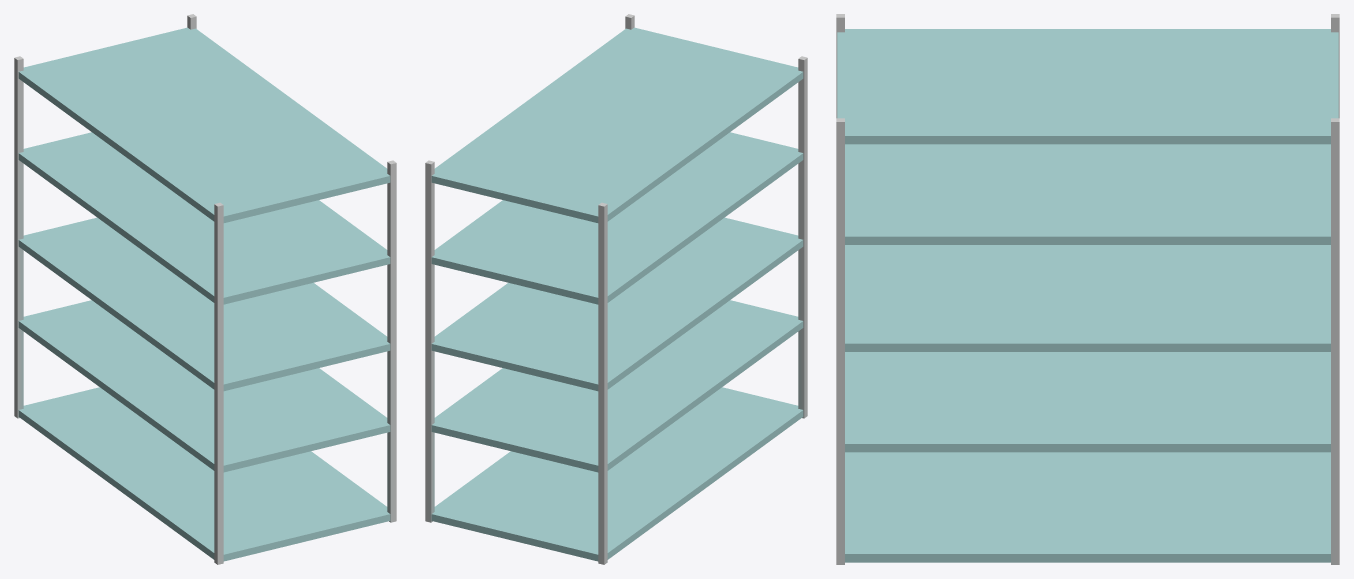
File: simready-storage_shelf_basic_a01.glb
3 views of the same model, side by side, from view 1: azimuth 30°, elevation 25°; view 2: azimuth 150°, elevation 25°; view 3: azimuth 270°, elevation 25° (orthographic). The views are drawn at different scales.
Parts seen in each view (by area): view 1: top_shelf, bottom_shelf, middle_shelf, upper_shelf, lower_shelf, end_post.001, end_post, far_post.001; view 2: top_shelf, bottom_shelf, middle_shelf, upper_shelf, lower_shelf, far_post.001, far_post, end_post.001; view 3: top_shelf, bottom_shelf, middle_shelf, lower_shelf, upper_shelf, end_post, far_post.
Part boxes in pixels (x1,y1,x2,y2): top_shelf: [18, 27, 390, 222]; bottom_shelf: [18, 387, 390, 561]; middle_shelf: [18, 217, 390, 391]; upper_shelf: [18, 132, 390, 304]; lower_shelf: [18, 300, 390, 472]; end_post.001: [214, 202, 223, 564]; end_post: [387, 160, 396, 522]; far_post.001: [14, 56, 23, 418]; top_shelf: [431, 27, 803, 222]; bottom_shelf: [431, 387, 803, 561]; middle_shelf: [431, 217, 803, 391]; upper_shelf: [431, 132, 803, 304]; lower_shelf: [431, 300, 803, 472]; far_post.001: [598, 202, 607, 564]; far_post: [425, 160, 434, 522]; end_post.001: [798, 56, 807, 418]; top_shelf: [837, 29, 1338, 144]; bottom_shelf: [845, 452, 1330, 562]; middle_shelf: [845, 245, 1330, 351]; lower_shelf: [845, 352, 1330, 452]; upper_shelf: [845, 144, 1330, 244]; end_post: [836, 118, 844, 564]; far_post: [1331, 118, 1339, 564].
Size of the model in its own units: 1.27 by 2.42 by 2.49.
